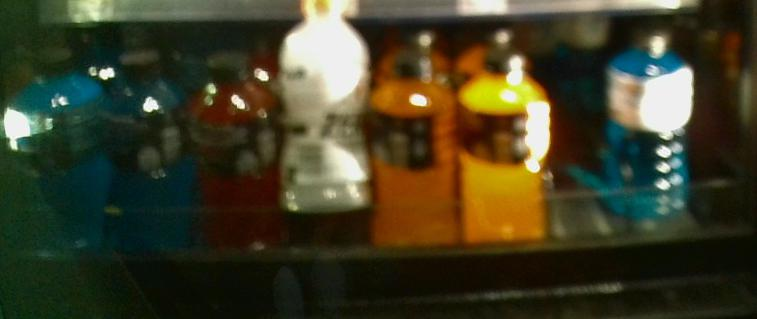bottle: (281, 4, 373, 219), (6, 44, 99, 256), (187, 52, 278, 257), (376, 49, 465, 254), (604, 29, 695, 224), (104, 50, 185, 256), (468, 51, 552, 249)
